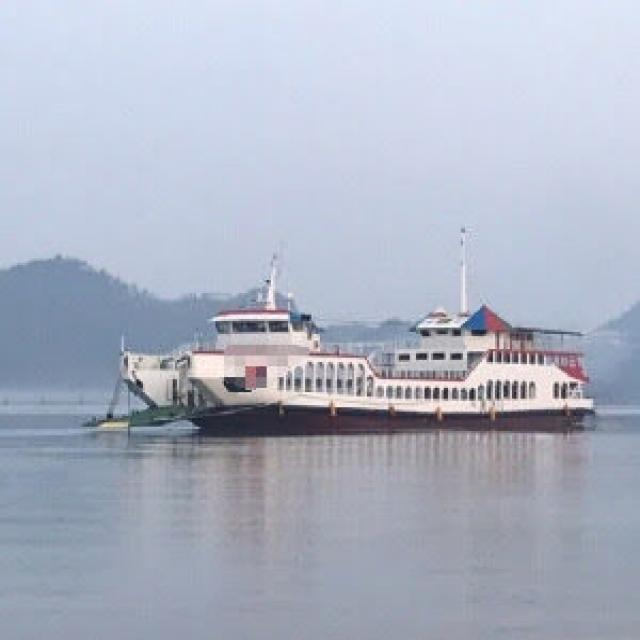passenger ship: (158, 276, 610, 426)
